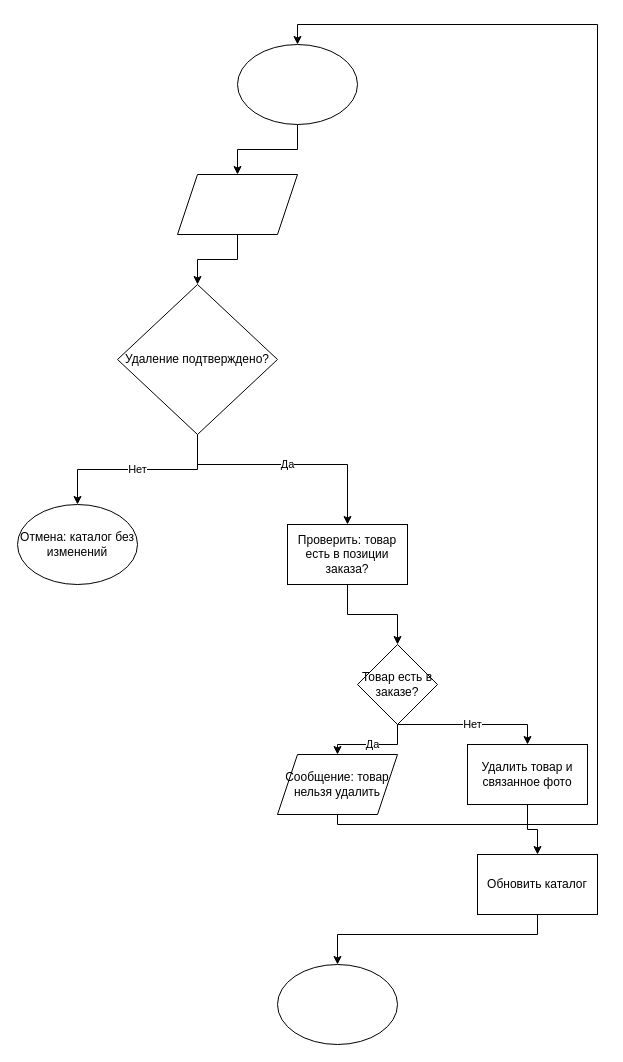
This 623x1062 diagram has some shape labels left out. Here are the shapes that lost their labels. From the top down, the centre of each, then its label:
point (297, 84): Выбран товар
point (237, 204): Нажать "Удалить товар"
point (337, 1004): Выход
